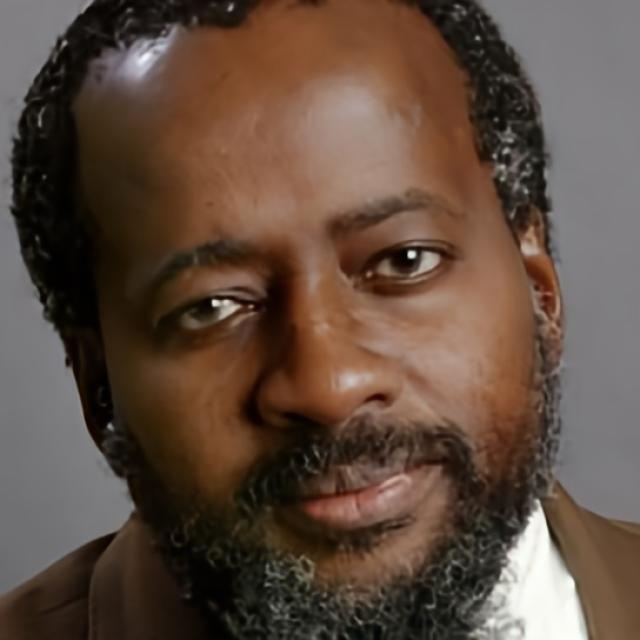content: (72, 0, 536, 640)
